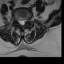CCS_normal: (21, 18, 23, 27)
LFS_severe_stenosis: (25, 16, 28, 23)
LLS_normal: (23, 18, 25, 26)
RFS_normal: (16, 16, 19, 25)
RLS_normal: (19, 18, 21, 26)
